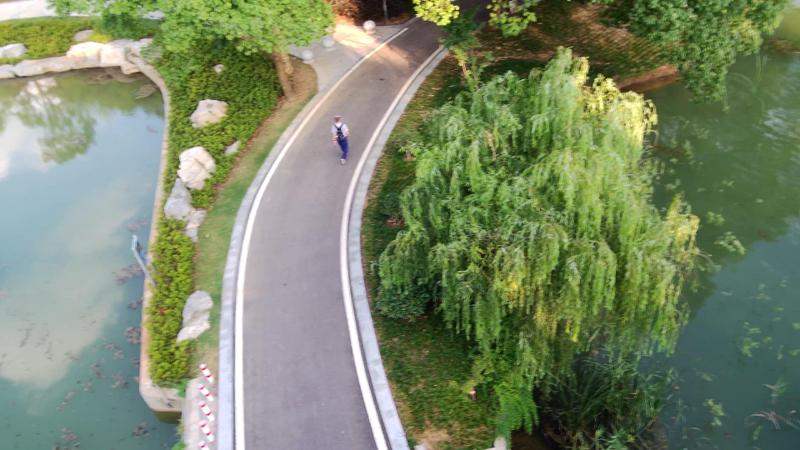passerby: (329, 112, 351, 167)
